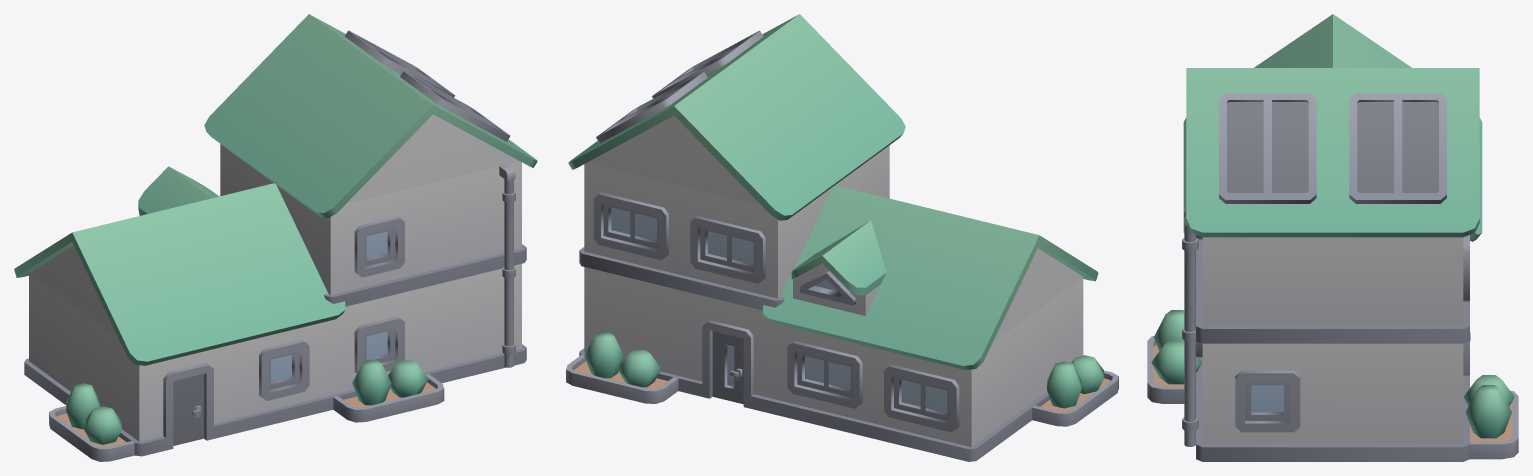
The model's file is building-type-b.glb.
The picture shows the model from 3 angles, left to right: view 1: azimuth 30°, elevation 25°; view 2: azimuth 150°, elevation 25°; view 3: azimuth 270°, elevation 25°; orthographic projection. The views are drawn at different scales.
Parts seen in each view (by area): view 1: building-type-b; view 2: building-type-b; view 3: building-type-b.
Part boxes in pixels (box(x1,y1,x2,y2)): building-type-b: box(14, 14, 537, 461); building-type-b: box(566, 14, 1118, 461); building-type-b: box(1147, 14, 1518, 461).
Size of the model in its own units: 1.83 by 1.14 by 1.14.
